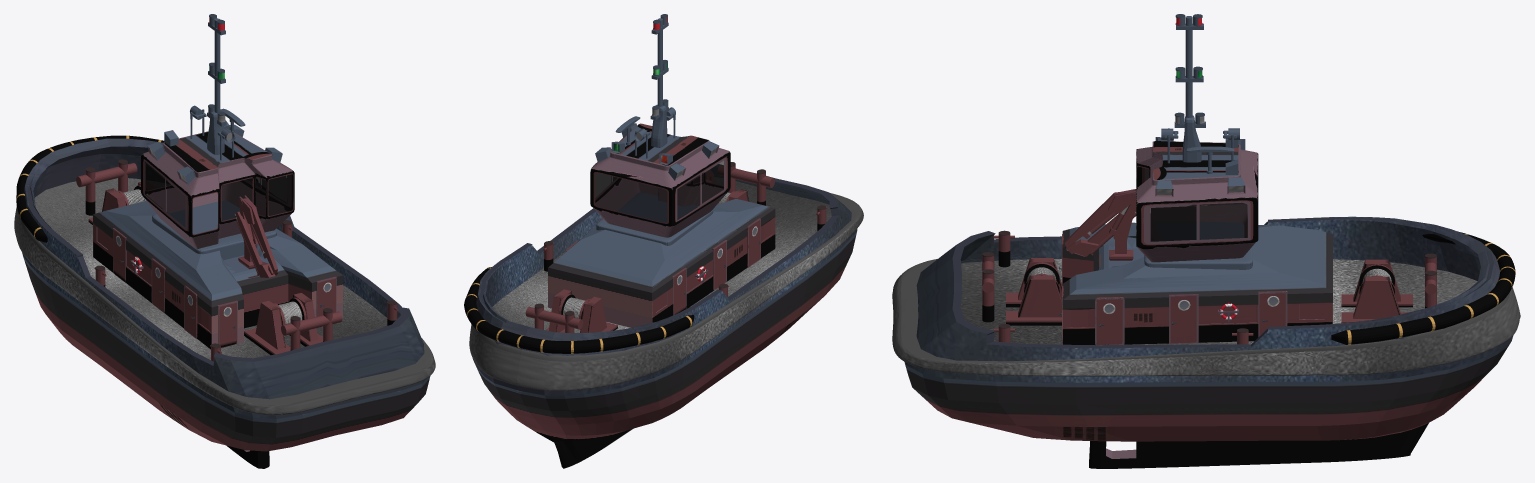
The model's file is tugboat.glb.
3 renders of one model, left to right at view 1: azimuth 30°, elevation 25°; view 2: azimuth 150°, elevation 25°; view 3: azimuth 270°, elevation 25°, orthographic. The views are drawn at different scales.
Size of the model in its own units: 15.44 by 27.67 by 35.
15 materials, 14 textured.
